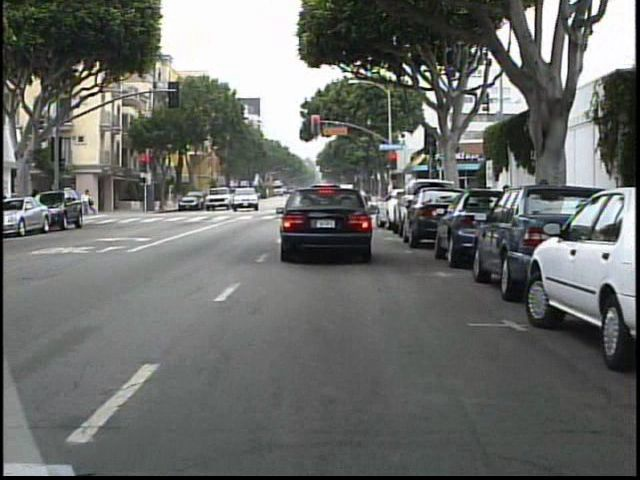person: (86, 187, 101, 219), (82, 189, 94, 217)
